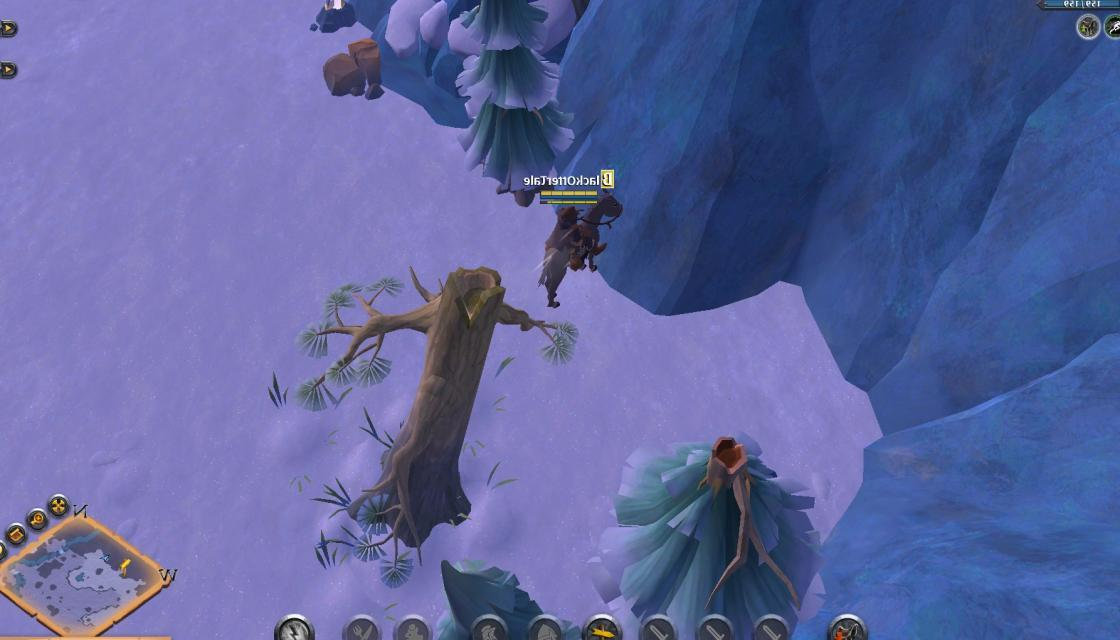copperore: (308, 0, 362, 34)
limestone: (320, 34, 392, 101)
